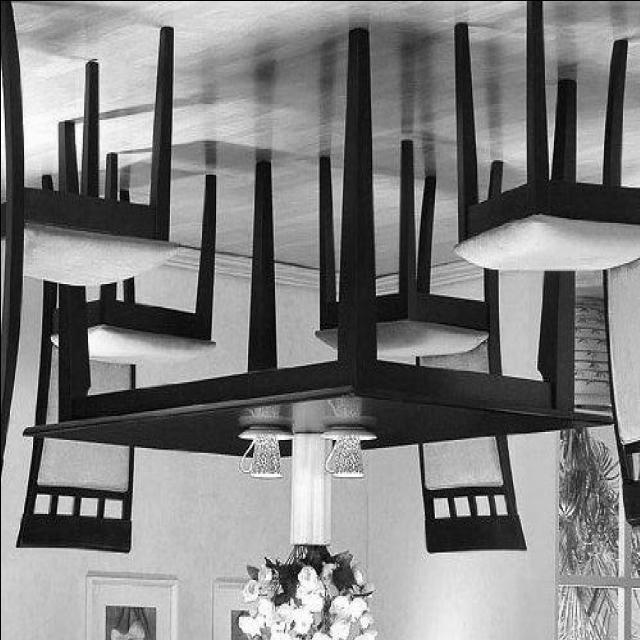chair: (453, 2, 639, 532), (311, 138, 529, 560), (5, 145, 222, 563), (1, 15, 182, 484), (15, 135, 214, 557)
table: (22, 38, 604, 472)
